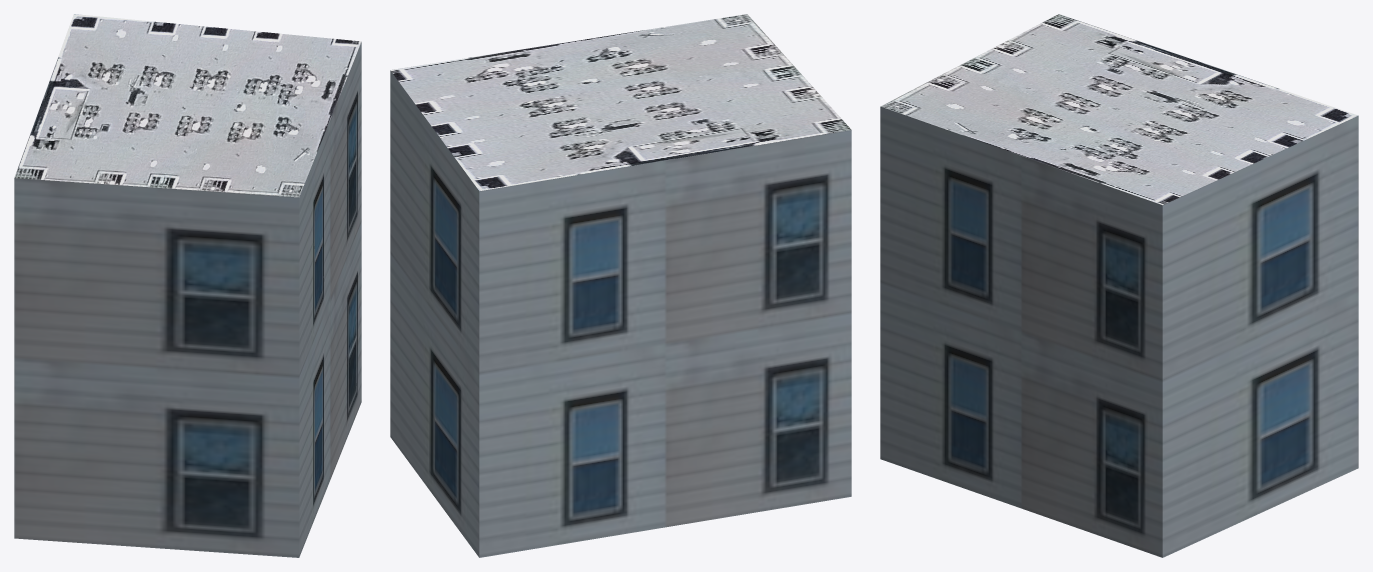
Rendered from ResTex__1179.fbx.
The picture shows the model from 3 angles, left to right: view 1: azimuth 30°, elevation 25°; view 2: azimuth 150°, elevation 25°; view 3: azimuth 270°, elevation 25°; orthographic projection. The views are drawn at different scales.
Parts seen in each view (by area): view 1: CityEngineMaterial_18_m, CityEngineMaterial_8_m; view 2: CityEngineMaterial_18_m, CityEngineMaterial_8_m; view 3: CityEngineMaterial_18_m, CityEngineMaterial_8_m.
Part boxes in pixels (box(x1,y1,x2,y2)): CityEngineMaterial_18_m: box(14, 42, 361, 557); CityEngineMaterial_8_m: box(14, 14, 361, 197); CityEngineMaterial_18_m: box(390, 70, 851, 557); CityEngineMaterial_8_m: box(390, 14, 851, 191); CityEngineMaterial_18_m: box(880, 106, 1358, 557); CityEngineMaterial_8_m: box(880, 14, 1357, 205).
Bounding box in the file's own units: 6.98 × 6 × 7.37.
2 materials, 2 textured.
